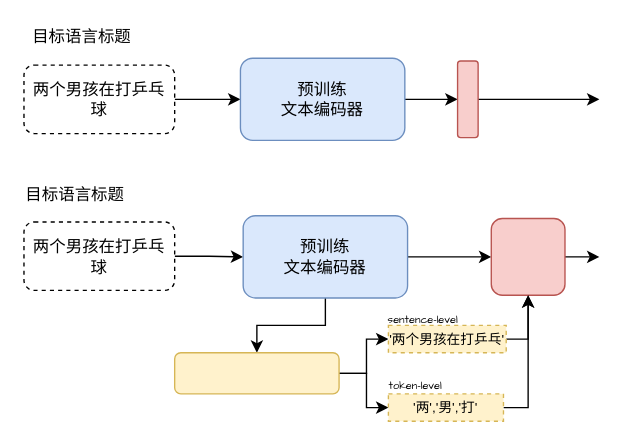
Image size: 634x445. Some labels were removed from this diagram. The centre of each missing label's shape, as x and y in pixels:
"Adapter" belongs at point 467,99.
"Adapters" belongs at point 527,256.
"多尺度自适应" belongs at point 256,372.
